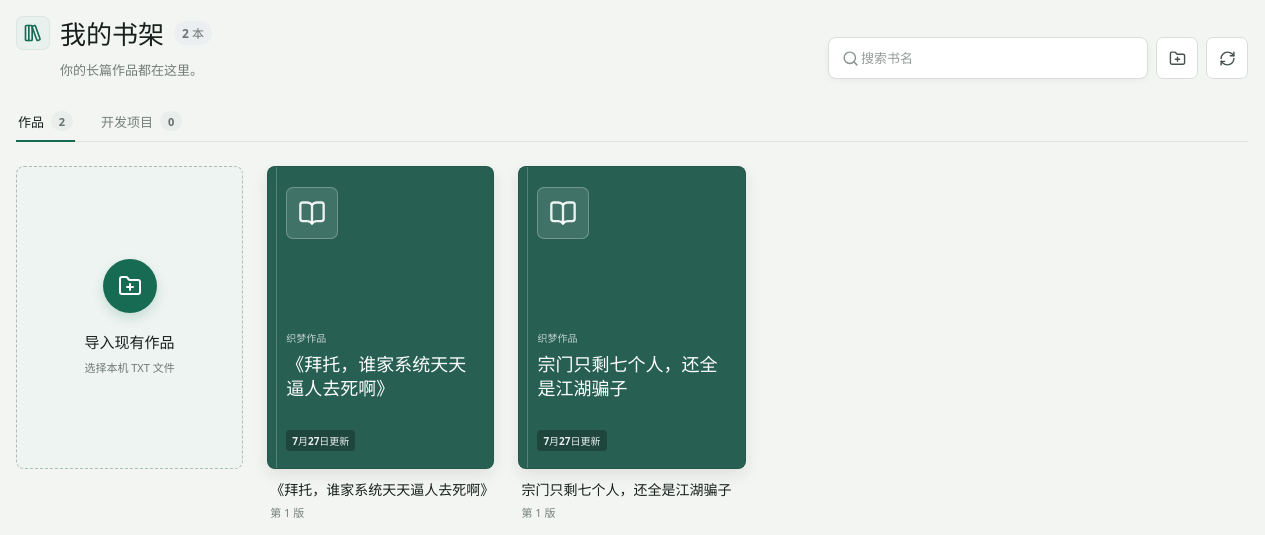
Test: Bookshelf › filters books by their cleaned title
The image size is (1265, 535).
Type "宗门" into the search field labelled "搜索书名" at (998, 58), box [859, 38, 1137, 78]
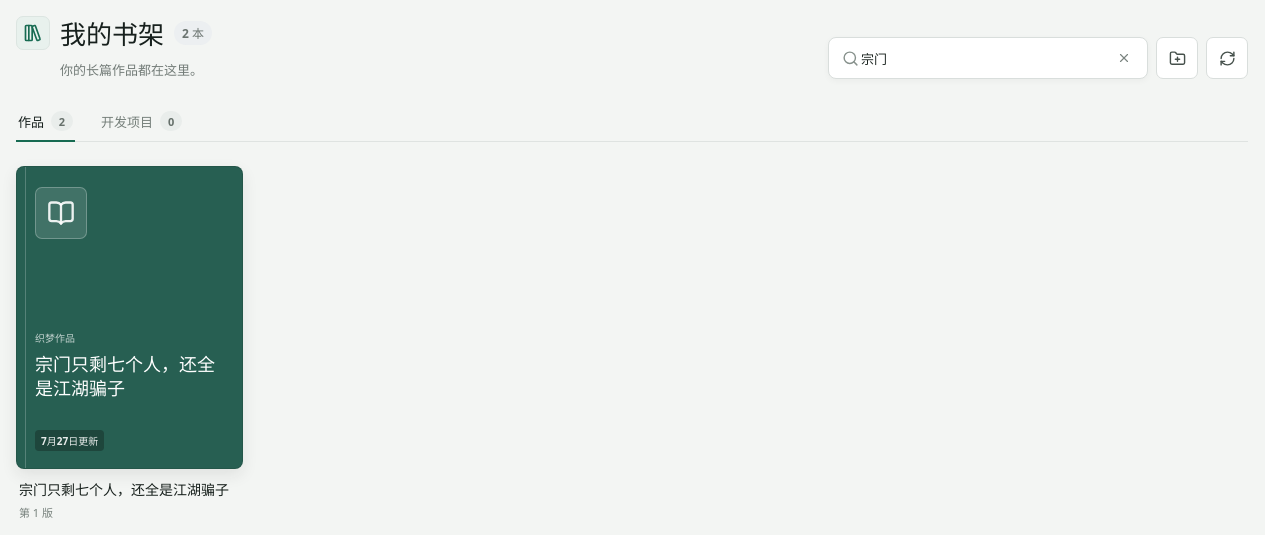
Expected: the 1st text "宗门只剩七个人，还全是江湖骗子" is shown, [35, 352, 224, 418]
Expected: the button "《拜托，谁家系统天天逼人去死啊》" is gone
